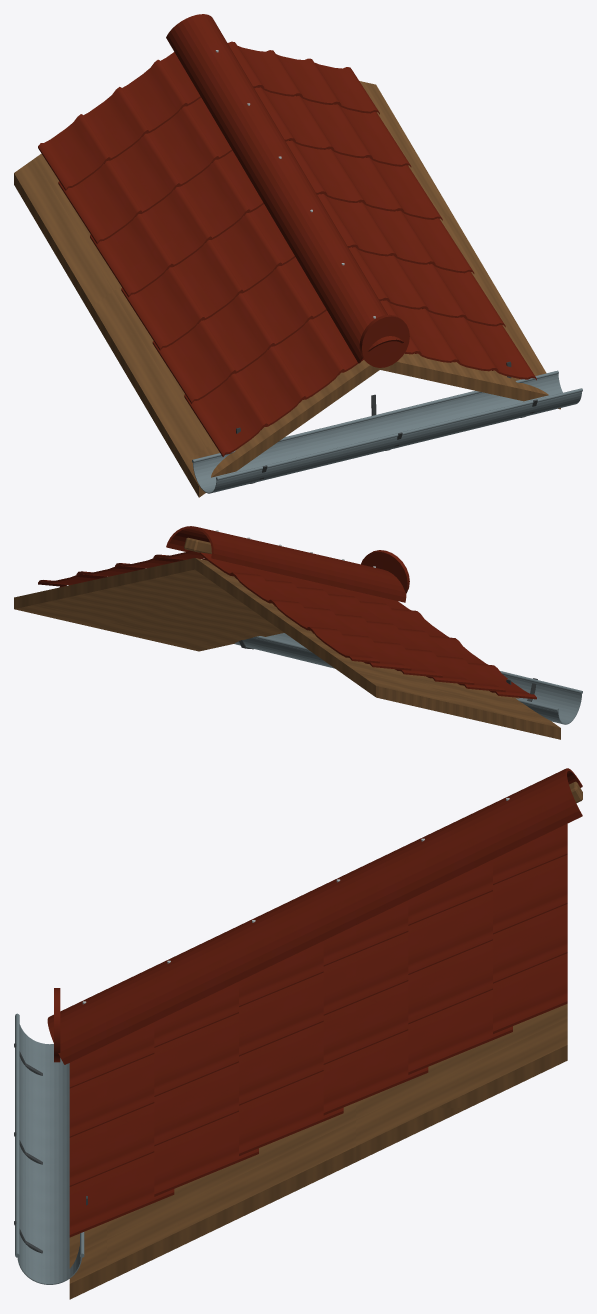
The model's file is modell.glb.
3 renders of one model, top to bottom at view 1: azimuth 30°, elevation 25°; view 2: azimuth 150°, elevation 25°; view 3: azimuth 270°, elevation 25°, orthographic. The views are drawn at different scales.
Parts seen in each view (by area): view 1: w02-ziegel_deckung, w02-walmflaeche_tragwerk, w02-gratziegel_deckung, w02-rinne_, w02-gratfuss_deckung; view 2: w02-walmflaeche_tragwerk, w02-ziegel_deckung, w02-gratziegel_deckung, w02-rinne_, w02-gratfuss_deckung, w02-gratlatte_lattung; view 3: w02-ziegel_deckung, w02-gratziegel_deckung, w02-walmflaeche_tragwerk, w02-rinne_.
Part boxes in pixels (left/top/right/bottom): w02-ziegel_deckung: left=38, top=41, right=536, bottom=456; w02-walmflaeche_tragwerk: left=14, top=81, right=560, bottom=497; w02-gratziegel_deckung: left=166, top=14, right=403, bottom=363; w02-rinne_: left=192, top=370, right=582, bottom=493; w02-gratfuss_deckung: left=359, top=314, right=409, bottom=367; w02-walmflaeche_tragwerk: left=14, top=558, right=560, bottom=739; w02-ziegel_deckung: left=38, top=550, right=536, bottom=699; w02-gratziegel_deckung: left=166, top=526, right=406, bottom=602; w02-rinne_: left=234, top=633, right=582, bottom=724; w02-gratfuss_deckung: left=361, top=550, right=409, bottom=593; w02-gratlatte_lattung: left=184, top=537, right=211, bottom=553; w02-ziegel_deckung: left=69, top=823, right=567, bottom=1237; w02-gratziegel_deckung: left=47, top=768, right=582, bottom=1064; w02-walmflaeche_tragwerk: left=69, top=1003, right=567, bottom=1299; w02-rinne_: left=15, top=1013, right=84, bottom=1284.
Bounding box in the file's own units: 2.28 × 1.81 × 2.28.
5 materials, 3 textured.
